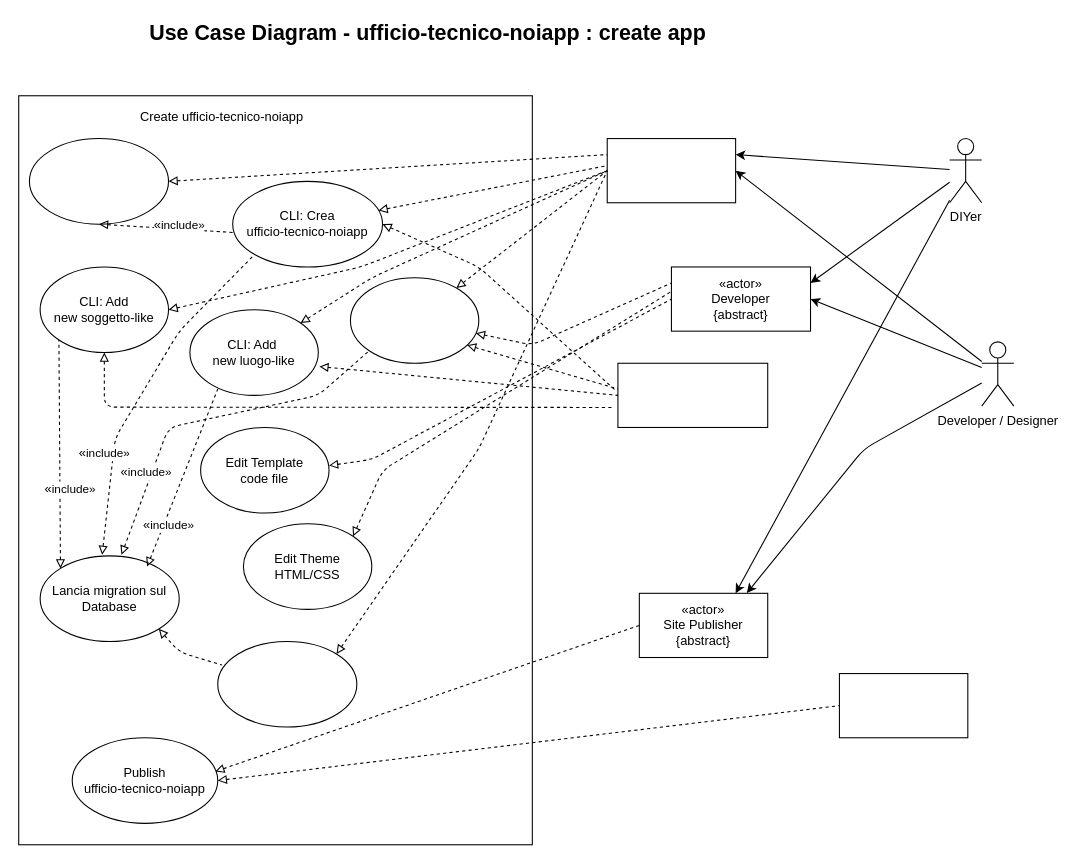
Some shapes in this 1076 by 863 pixel diagram are drawn without their labels. Here are the shapes that lost their labels. From the top down, the centre of each, then its label:
At point 98,180: "Git clone repo ufficio-tecnico-noiapp".
At point 671,170: "«actor» Site creator {abstract}".
At point 414,320: "CLI: Add new entità accessorio".
At point 692,394: "«actor» ufficio-tecnico-noiapp-cli".
At point 287,683: "Add/remove Entity/ies copy and past".
At point 903,705: "«actor» Hosting".
